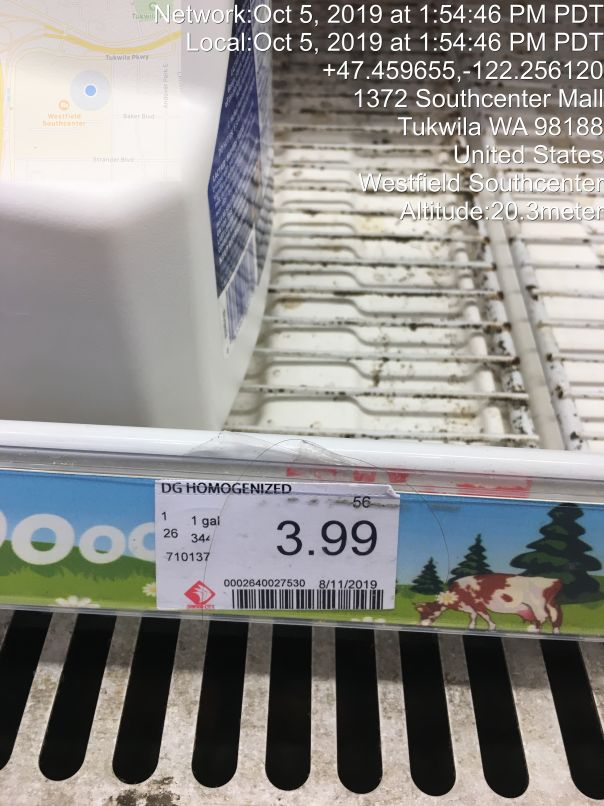DG Homogenized: (13, 13, 286, 431)
Label: (138, 468, 410, 630)
Location: (349, 75, 604, 198)
Time: (140, 2, 604, 64)
Void: (297, 1, 591, 444)
